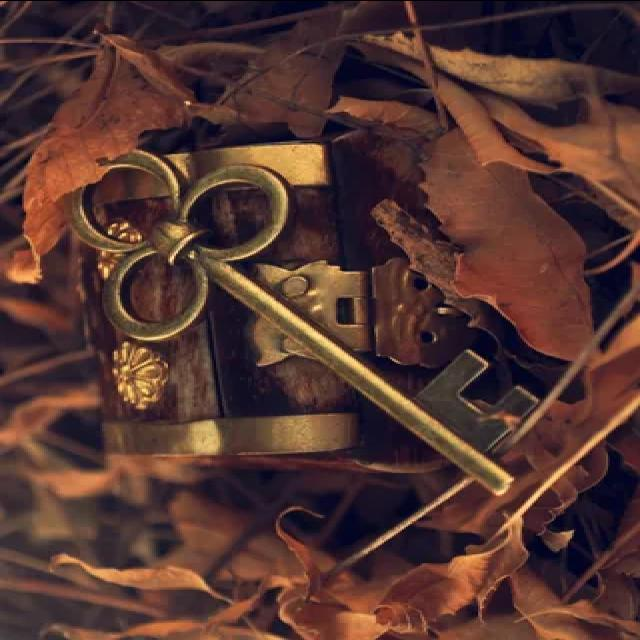key: (54, 136, 540, 518)
